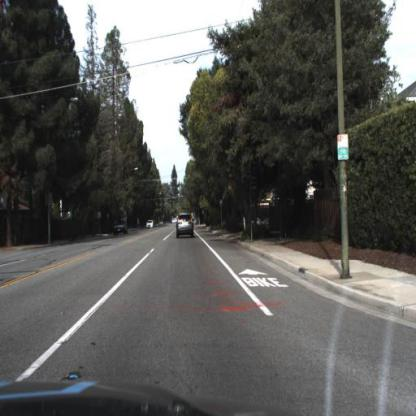car: (175, 210, 196, 241), (112, 214, 130, 242), (147, 219, 156, 232)
